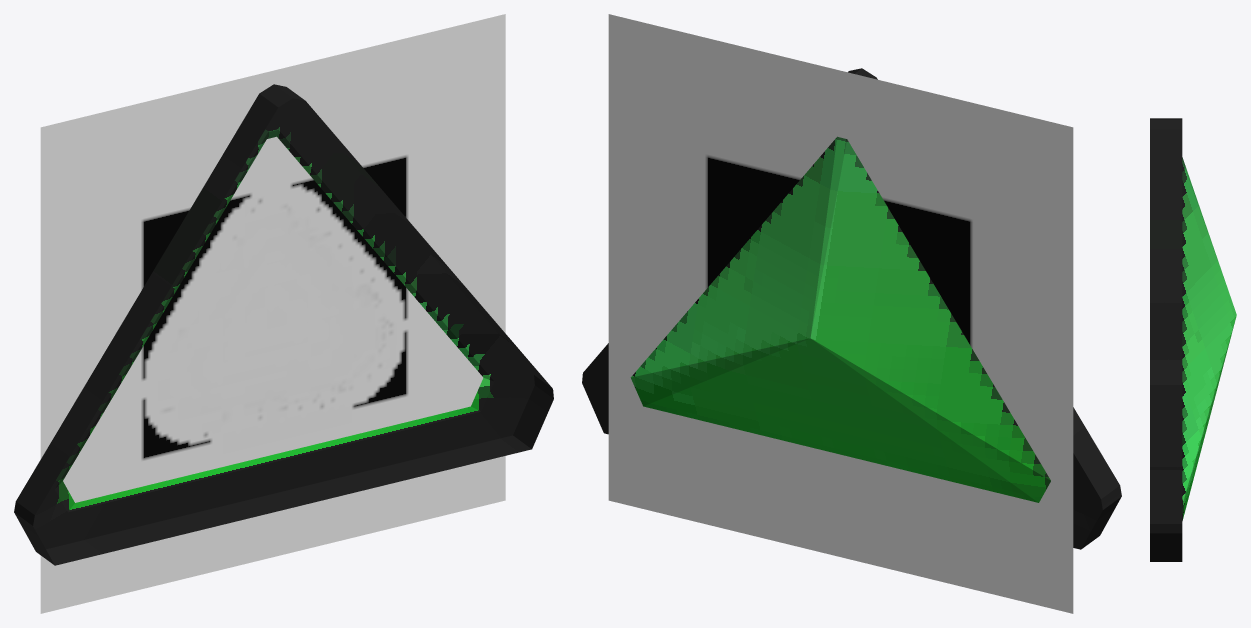
Rendered from BuffUp.fbx.
3 renders of one model, left to right at view 1: azimuth 30°, elevation 25°; view 2: azimuth 150°, elevation 25°; view 3: azimuth 270°, elevation 25°, orthographic. The views are drawn at different scales.
Visible parts, largest first — view 1: attach_statusArrow_glow, BuffUp; view 2: attach_statusArrow_glow, BuffUp; view 3: BuffUp.
Boxes of the visible parts, x1,y1,x2,y2 form: attach_statusArrow_glow: [40, 14, 505, 613]; BuffUp: [14, 84, 553, 565]; attach_statusArrow_glow: [608, 14, 1073, 613]; BuffUp: [582, 68, 1121, 549]; BuffUp: [1150, 118, 1236, 561].
Bounding box in the file's own units: 1.21 × 1.08 × 0.2066.
